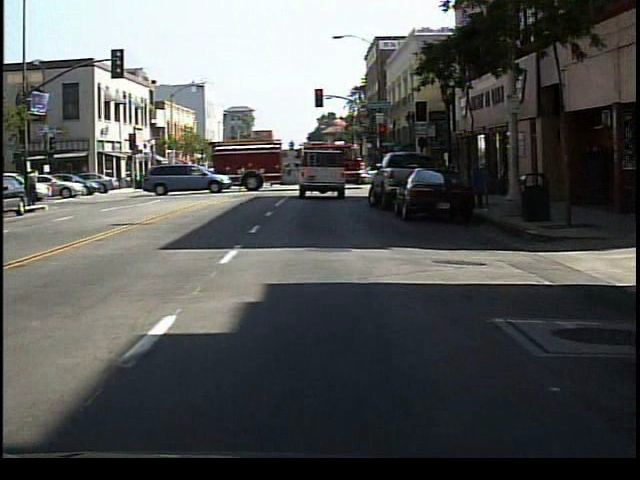person: (27, 166, 42, 207)
